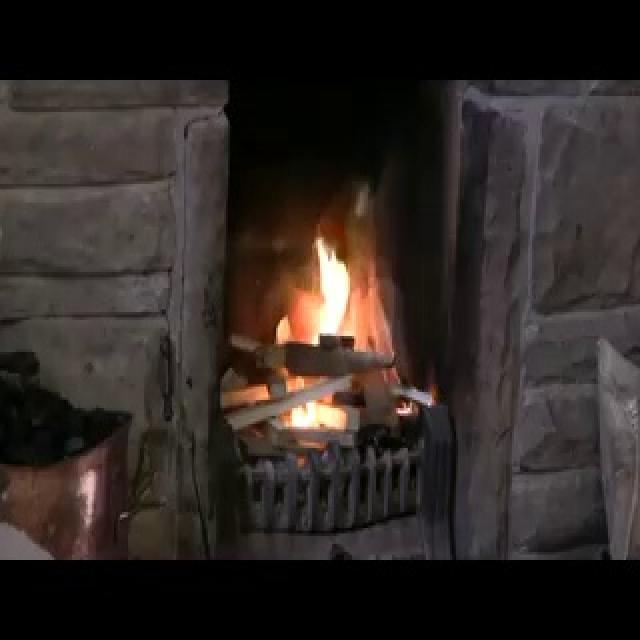fire: (287, 216, 361, 350)
